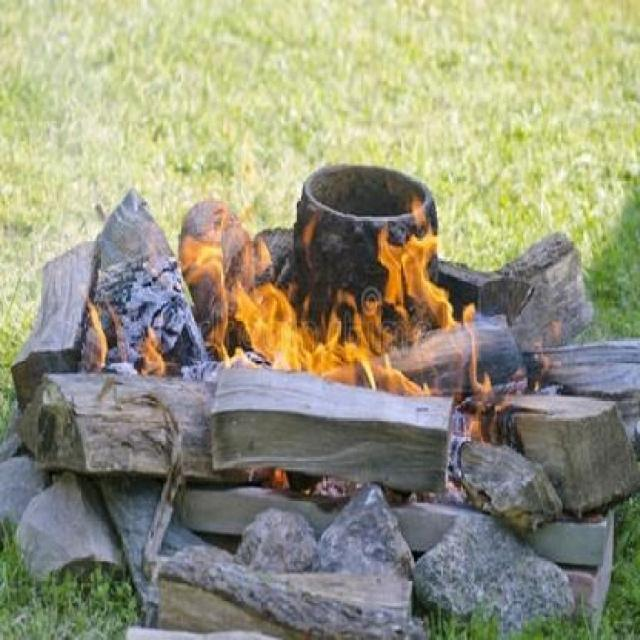Fire: (80, 181, 552, 446)
